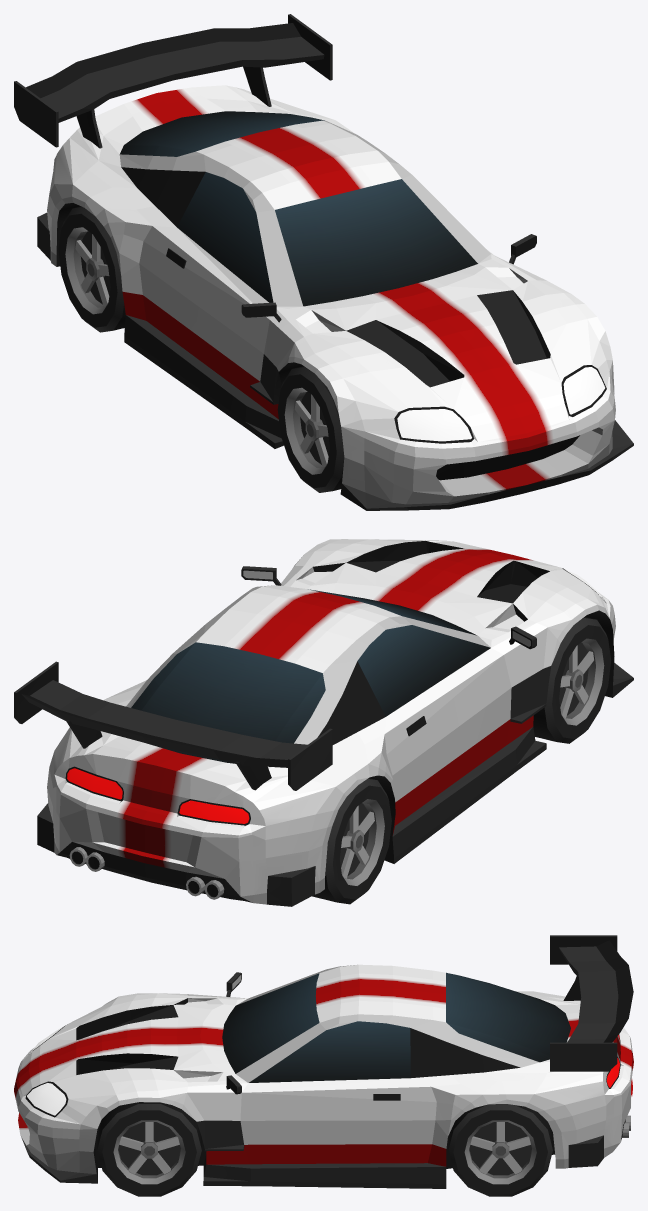
The model's file is player_car.glb.
3 views of the same model, one above another, from view 1: azimuth 30°, elevation 25°; view 2: azimuth 150°, elevation 25°; view 3: azimuth 270°, elevation 25° (orthographic). The views are drawn at different scales.
Visible parts, largest first — view 1: Chassis_Body, Wheel_FR, Wheel_RR; view 2: Chassis_Body, Wheel_FR, Wheel_RR; view 3: Chassis_Body, Wheel_FL, Wheel_RL.
Part boxes in pixels (bbox=[...]): Chassis_Body: bbox=[14, 14, 633, 510]; Wheel_FR: bbox=[277, 366, 344, 492]; Wheel_RR: bbox=[58, 206, 125, 332]; Chassis_Body: bbox=[14, 539, 633, 906]; Wheel_FR: bbox=[533, 617, 611, 743]; Wheel_RR: bbox=[312, 778, 391, 904]; Chassis_Body: bbox=[14, 935, 633, 1188]; Wheel_FL: bbox=[97, 1102, 201, 1196]; Wheel_RL: bbox=[448, 1104, 552, 1196].
Bounding box in the file's own units: 1.94 × 1.24 × 4.42.
Materials: 2 (2 with a texture image).
